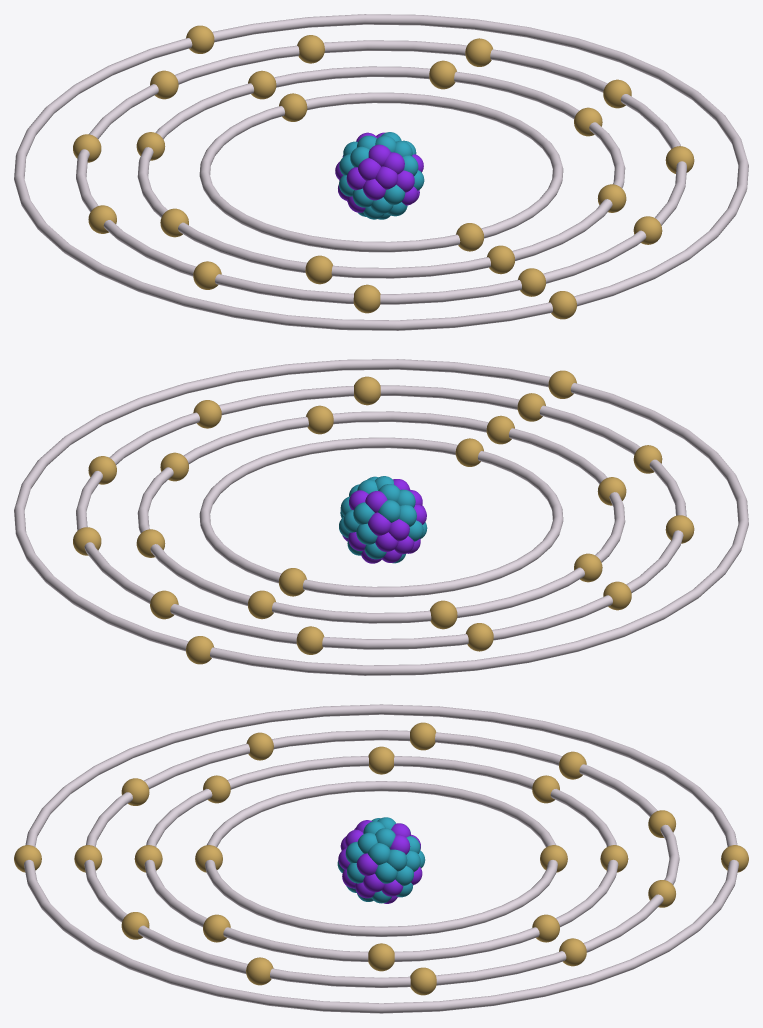
Rendered from vanadio.glb.
3 views of the same model, one above another, from view 1: azimuth 30°, elevation 25°; view 2: azimuth 150°, elevation 25°; view 3: azimuth 270°, elevation 25° (orthographic). The views are drawn at different scales.
Visible parts, largest first — view 1: Orbita_4, Orbita_3, Orbita_2, Orbita_1, Nucleo_Completo, Eletron_C3_11, Eletron_C2_8, Eletron_C2_4, Eletron_C3_5, Eletron_C3_6, Eletron_C2_1, Eletron_1 (+16 smaller); view 2: Orbita_4, Orbita_3, Orbita_2, Orbita_1, Nucleo_Completo, Eletron_C3_2, Eletron_C2_6, Eletron_C3_7, Eletron_C2_2, Eletron_C3_8, Eletron_C2_5, Eletron_2 (+16 smaller); view 3: Orbita_4, Orbita_3, Orbita_2, Orbita_1, Nucleo_Completo, Eletron_C2_3, Eletron_C3_4, Eletron_C3_9, Eletron_C2_7, Eletron_C3_3, Eletron_C3_10, Eletron_C2_2 (+16 smaller).
Boxes of the visible parts, left/top/right/bottom form: Orbita_4: left=14, top=14, right=748, bottom=330; Orbita_3: left=76, top=40, right=686, bottom=304; Orbita_2: left=137, top=66, right=625, bottom=278; Orbita_1: left=199, top=92, right=563, bottom=252; Nucleo_Completo: left=335, top=132, right=424, bottom=219; Eletron_C3_11: left=353, top=284, right=380, bottom=313; Eletron_C2_8: left=305, top=255, right=332, bottom=284; Eletron_C2_4: left=429, top=60, right=456, bottom=89; Eletron_C3_5: left=465, top=38, right=492, bottom=66; Eletron_C3_6: left=297, top=35, right=324, bottom=63; Eletron_C2_1: left=487, top=245, right=514, bottom=274; Eletron_1: left=456, top=223, right=484, bottom=251; Orbita_4: left=14, top=359, right=748, bottom=675; Orbita_3: left=76, top=385, right=686, bottom=649; Orbita_2: left=137, top=411, right=625, bottom=623; Orbita_1: left=199, top=437, right=563, bottom=597; Nucleo_Completo: left=339, top=476, right=427, bottom=563; Eletron_C3_2: left=354, top=376, right=380, bottom=405; Eletron_C2_6: left=430, top=600, right=457, bottom=629; Eletron_C3_7: left=296, top=626, right=324, bottom=654; Eletron_C2_2: left=306, top=405, right=333, bottom=434; Eletron_C3_8: left=465, top=623, right=493, bottom=651; Eletron_C2_5: left=248, top=590, right=275, bottom=619; Eletron_2: left=278, top=568, right=306, bottom=596; Orbita_4: left=24, top=704, right=738, bottom=1013; Orbita_3: left=84, top=730, right=679, bottom=987; Orbita_2: left=144, top=756, right=618, bottom=961; Orbita_1: left=205, top=781, right=557, bottom=936; Nucleo_Completo: left=337, top=817, right=425, bottom=903; Eletron_C2_3: left=368, top=943, right=394, bottom=971; Eletron_C3_4: left=410, top=967, right=436, bottom=995; Eletron_C3_9: left=410, top=722, right=436, bottom=750; Eletron_C2_7: left=368, top=746, right=394, bottom=774; Eletron_C3_3: left=246, top=957, right=273, bottom=985; Eletron_C3_10: left=246, top=732, right=273, bottom=760; Eletron_C2_2: left=203, top=914, right=230, bottom=942.
Size of the model in its own units: 4.16 by 0.5047 by 4.26.
